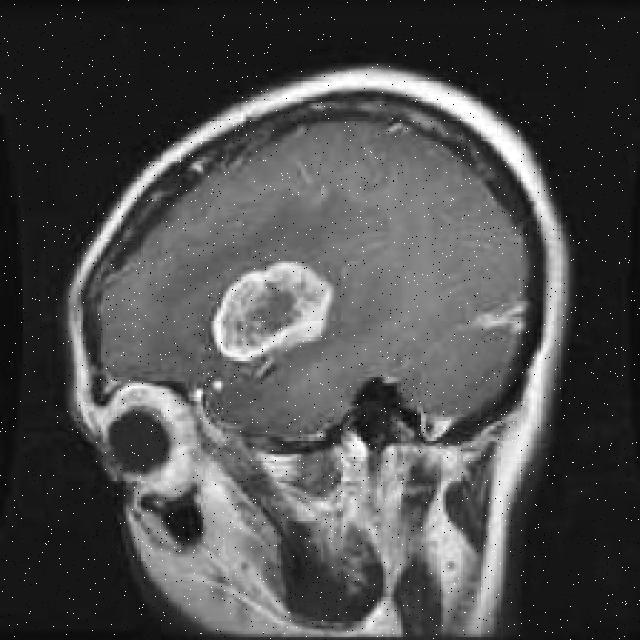MCI: (208, 269, 364, 357)
